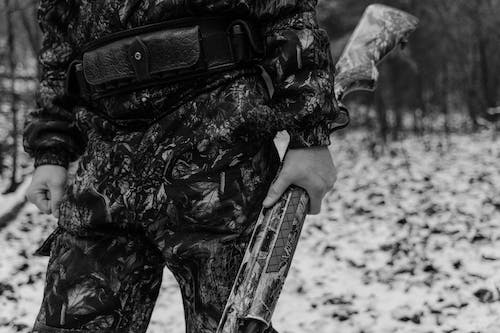gun: (214, 2, 421, 333)
